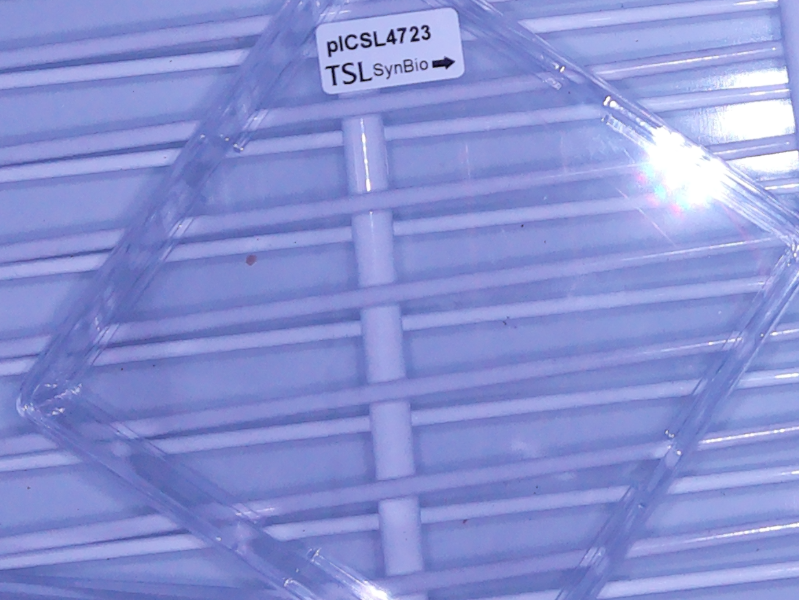plate: (17, 1, 799, 599)
